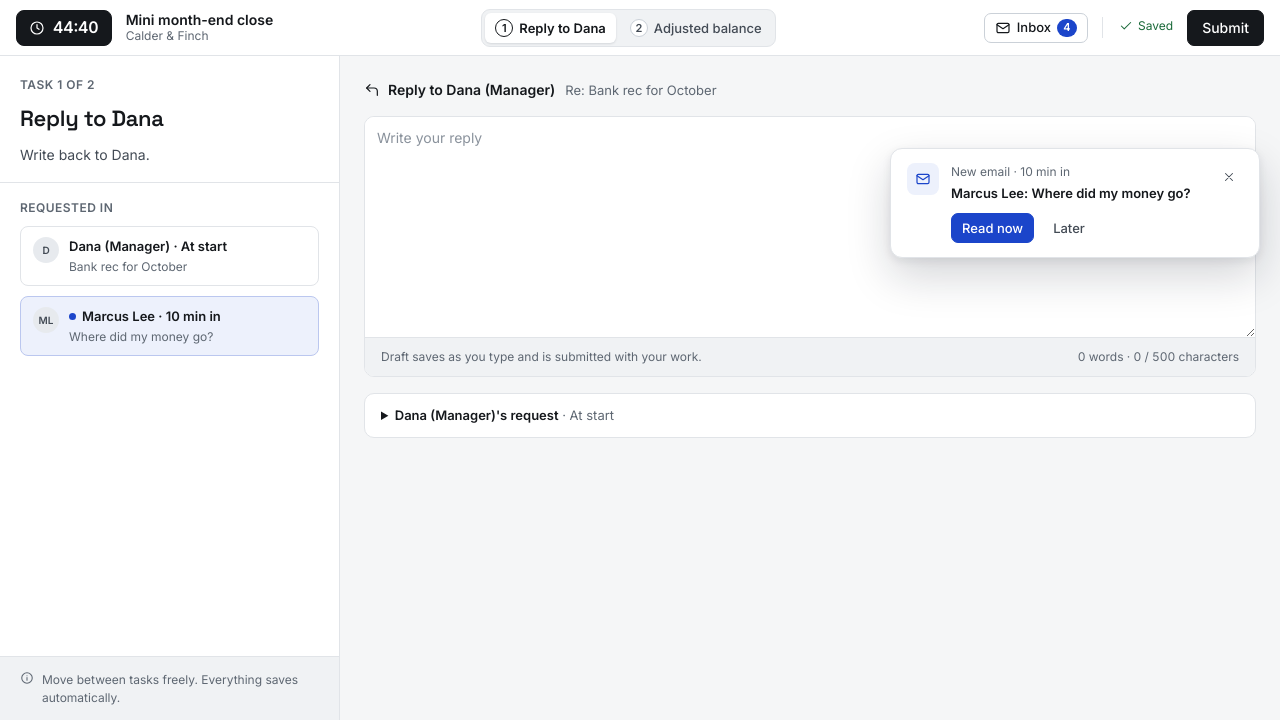
Test case: polling › asks for new state every 20 seconds, adds arrived messages and announces them
The width and height of the screenshot is (1280, 720).
Expected: the text "Marcus Lee: Where did my money go?" is shown, [951,184,1203,203]
Click the button "Read now". click: {"x": 993, "y": 228}
box: [951,213,1034,243]
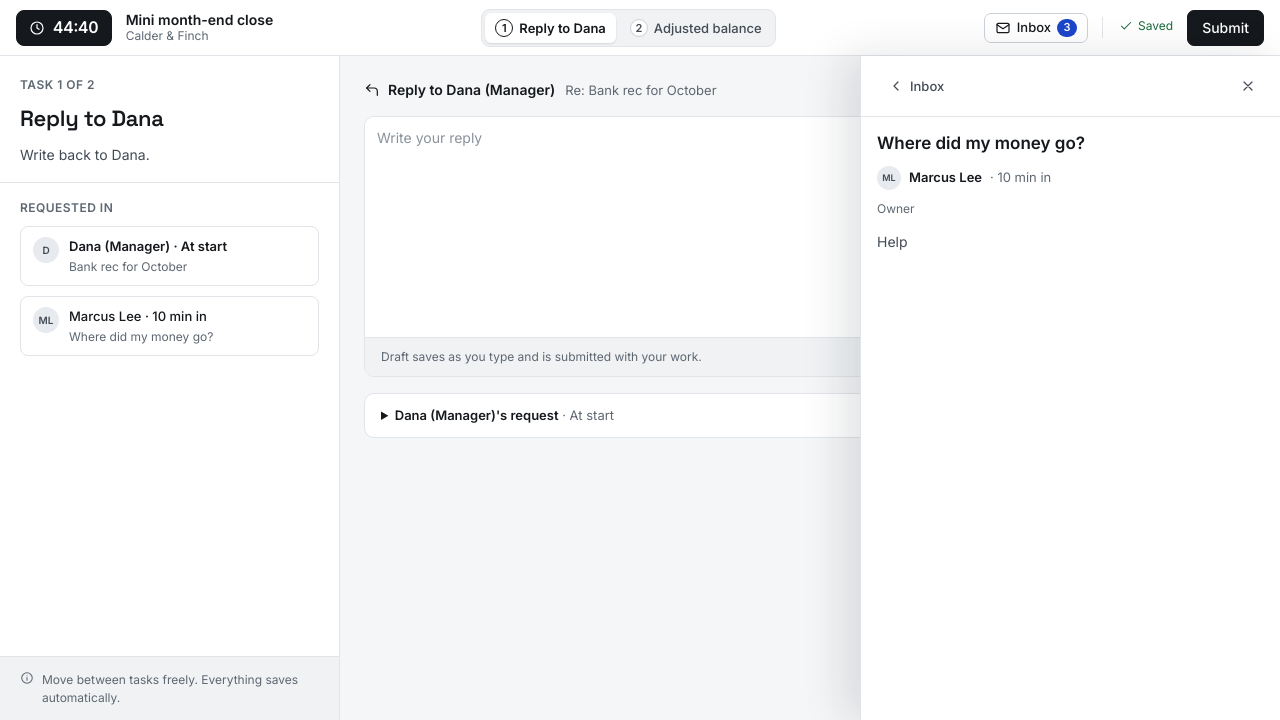
Expected: the heading "Where did my money go?" is shown, [877,133,1085,153]
Expected: the text "Marcus Lee: Where did my money go?" is gone
